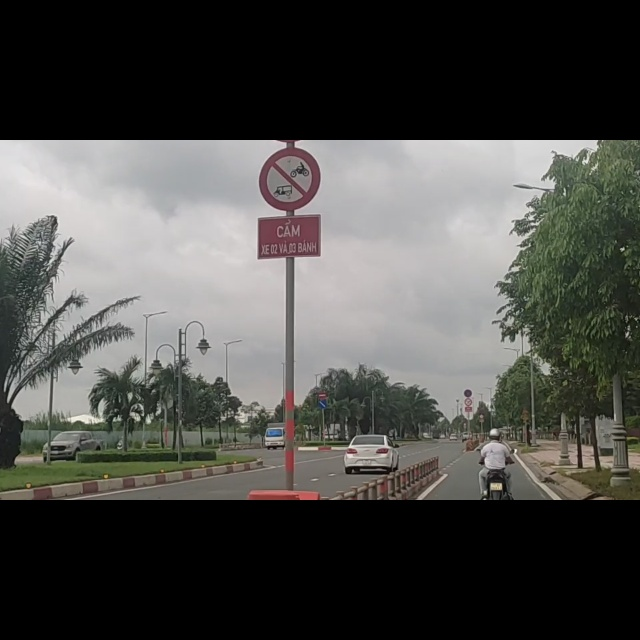bien_hieu_lenh: (255, 11, 323, 126)
